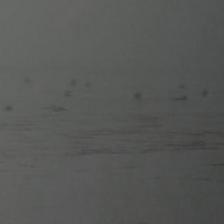surfer: (47, 106, 67, 112), (173, 95, 188, 101), (62, 90, 72, 98), (68, 78, 78, 86), (3, 105, 13, 112), (176, 84, 186, 91), (132, 92, 141, 99), (200, 90, 209, 97), (23, 78, 30, 84)
